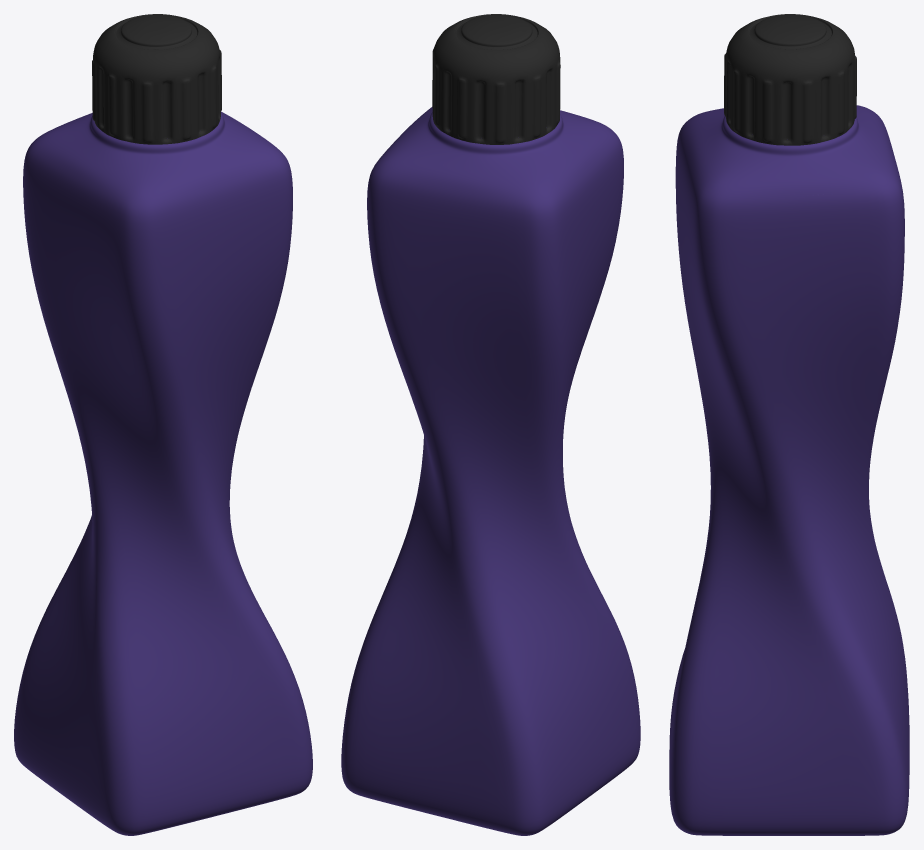
The model's file is shampoo_bottle_twist.glb.
3 renders of one model, left to right at view 1: azimuth 30°, elevation 25°; view 2: azimuth 150°, elevation 25°; view 3: azimuth 270°, elevation 25°, orthographic.
Visible parts, largest first — view 1: Low, Cap low Simple; view 2: Low, Cap low Simple; view 3: Low, Cap low Simple.
Boxes of the visible parts, x1,y1,x2,y2 form: Low: (14, 111, 312, 835); Cap low Simple: (92, 14, 221, 144); Low: (341, 107, 640, 835); Cap low Simple: (432, 14, 560, 144); Low: (669, 105, 909, 835); Cap low Simple: (724, 14, 856, 145).
Bounding box in the file's own units: 2.04 × 7.18 × 2.04.
2 materials, 2 textured.
